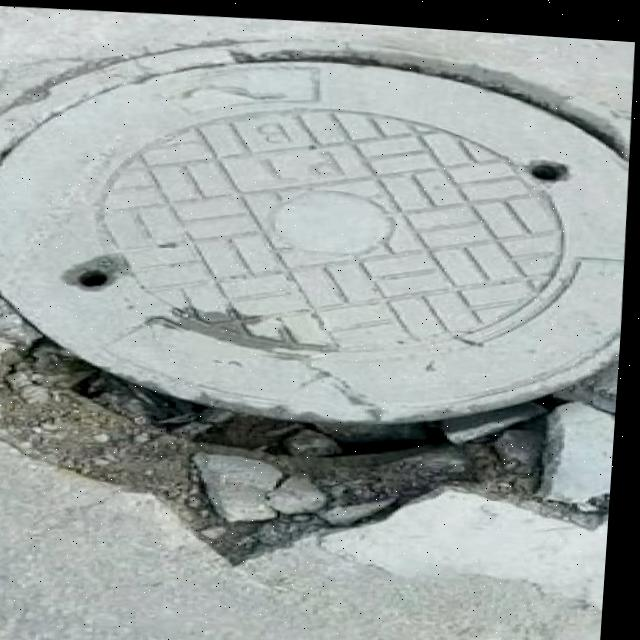manhole: (0, 16, 639, 524)
